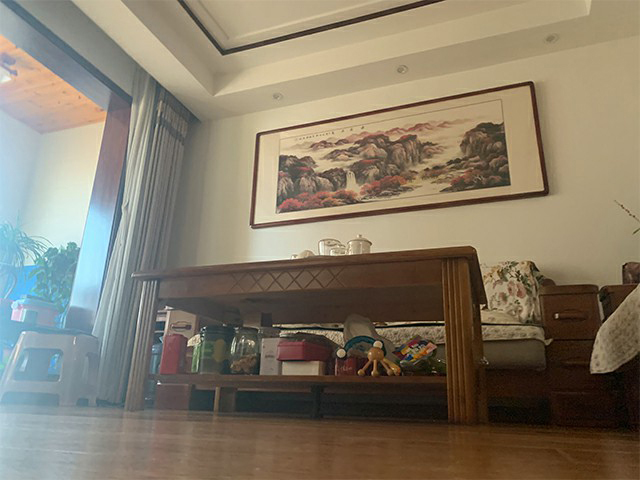curtain: (91, 65, 177, 403)
sofa: (478, 259, 640, 430)
stool: (3, 326, 99, 408)
table: (124, 245, 491, 427)
